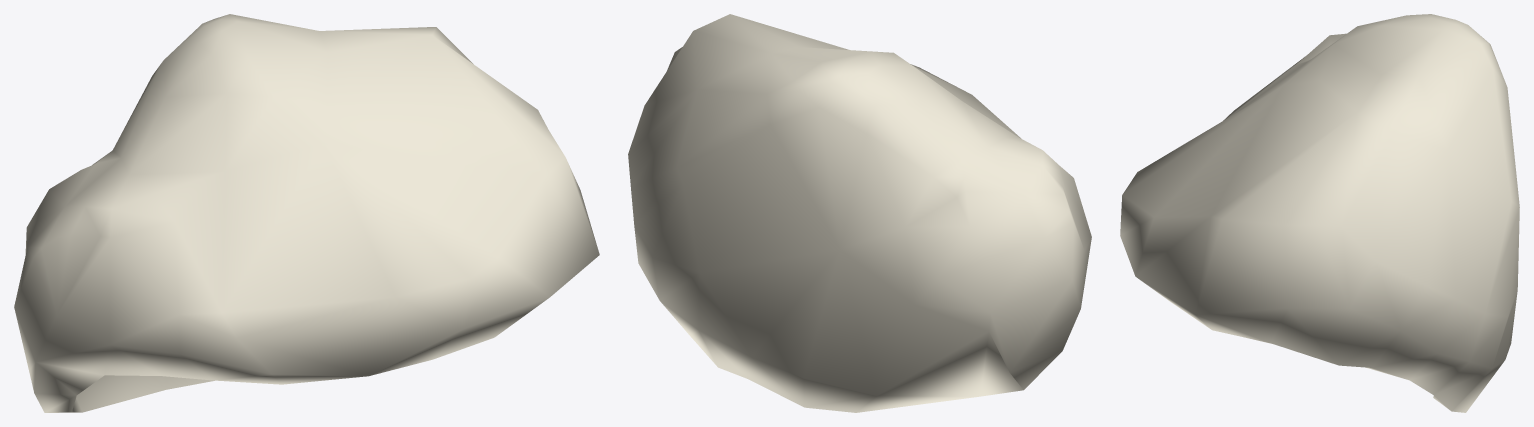
3 renders of one model, left to right at view 1: azimuth 30°, elevation 25°; view 2: azimuth 150°, elevation 25°; view 3: azimuth 270°, elevation 25°, orthographic. The views are drawn at different scales.
Visible parts, largest first — view 1: ZA_1947be5cb589dffe; view 2: ZA_1947be5cb589dffe; view 3: ZA_1947be5cb589dffe.
Part boxes in pixels (box(x1,y1,x2,y2)): ZA_1947be5cb589dffe: box(14, 14, 599, 412); ZA_1947be5cb589dffe: box(628, 14, 1091, 412); ZA_1947be5cb589dffe: box(1120, 14, 1519, 412).
Bounding box in the file's own units: 0.0193 × 0.0135 × 0.0139.
